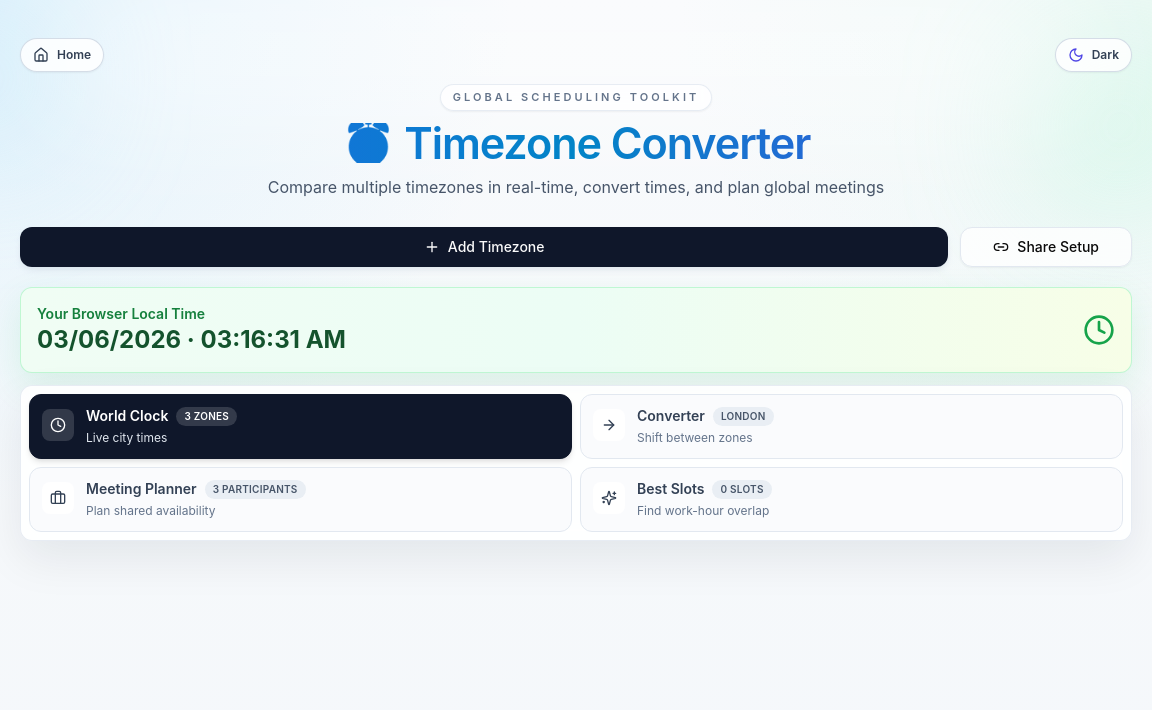
TimezoneConverter Component - Hardcoded Data Version › adds timezone when selected
Click the button "Add Timezone". click: click(484, 246)
box: [20,226,948,266]
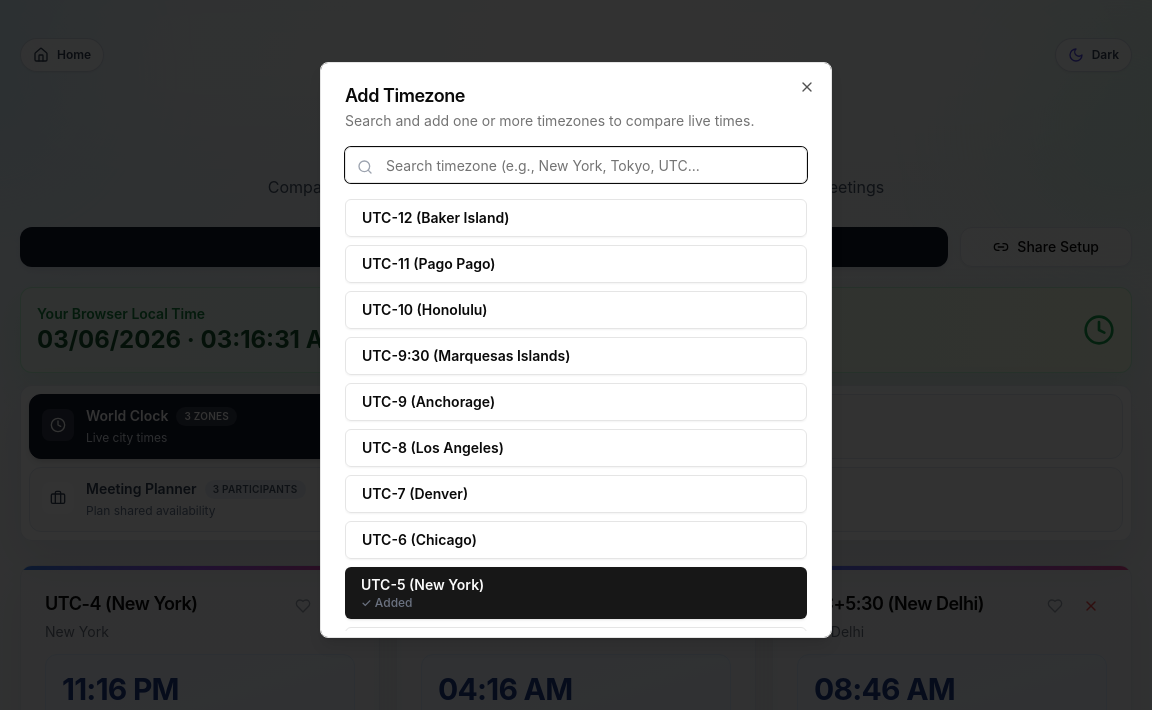
Type "Los Angeles" into the field with placeholder "Search timezone (e.g., New York, Tokyo, UTC...". click: (576, 165)
box: [345,147,807,183]
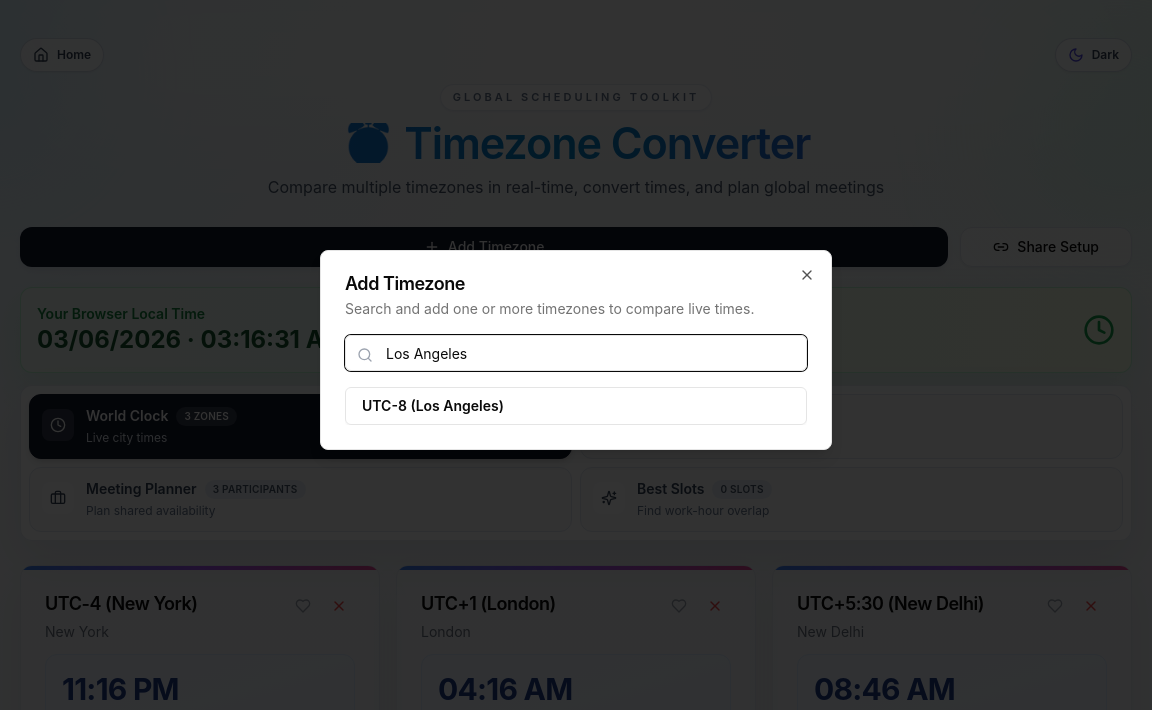
Click the button "UTC-8 (Los Angeles)". click: click(433, 406)
box: [345,387,807,425]
(page scrolled)
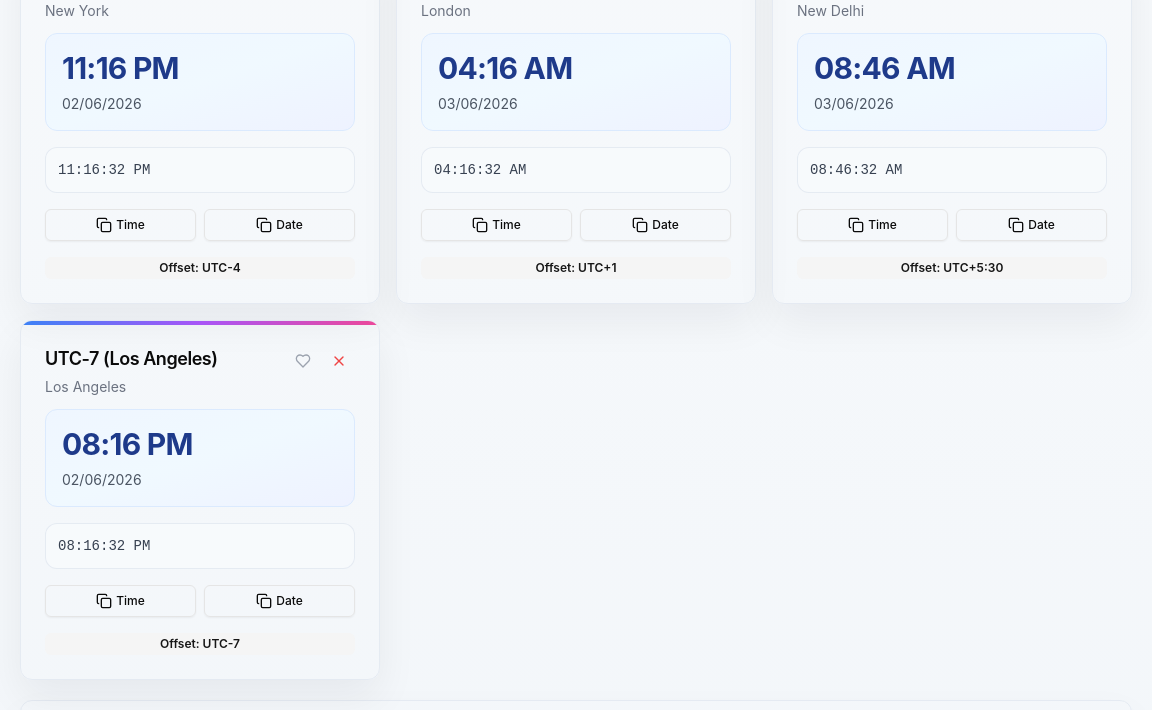
Expected: the text "UTC-7 (Los Angeles)" is shown, [45,348,218,368]
